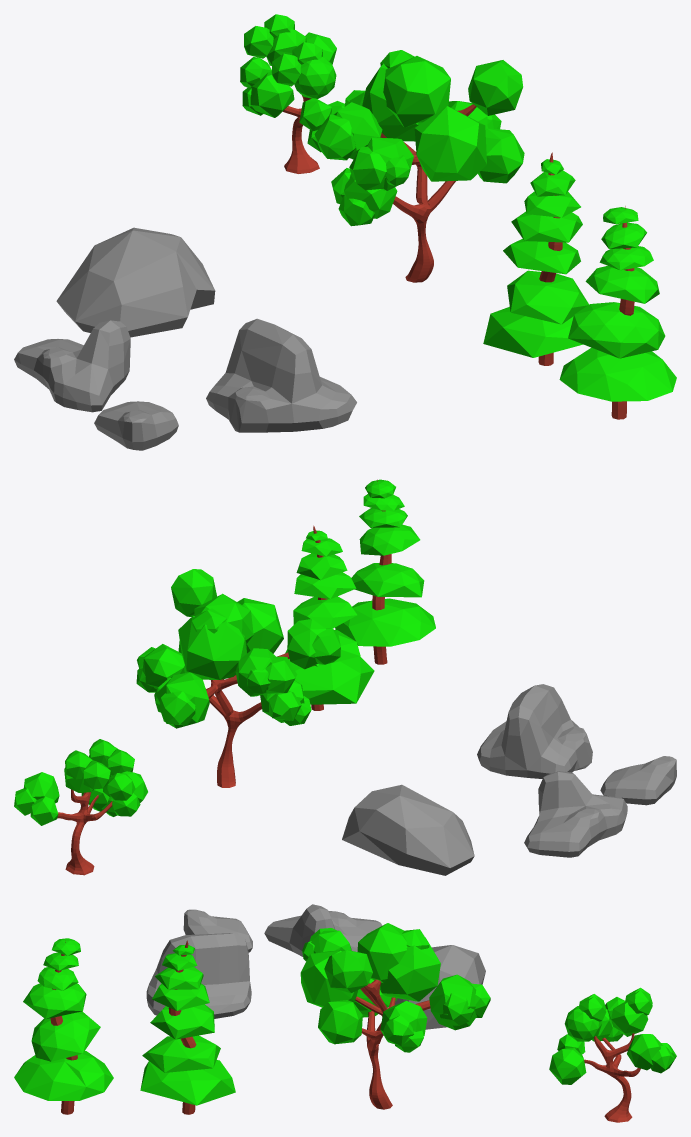
Rendered from Environment.fbx.
3 renders of one model, top to bottom at view 1: azimuth 30°, elevation 25°; view 2: azimuth 150°, elevation 25°; view 3: azimuth 270°, elevation 25°, orthographic. The views are drawn at different scales.
Parts seen in each view (by area): view 1: Cube.010, Cube.009, Cube.008, Icosphere.043, Icosphere.027, Icosphere.044, Icosphere.022, Icosphere.015, Icosphere.016, Cube.007, Cube.006, Icosphere.030 (+23 smaller); view 2: Cube.010, Cube.009, Cube.008, Icosphere.043, Icosphere.039, Icosphere.015, Cube.007, Icosphere.044, Cube.006, Icosphere.030, Icosphere.027, Cube (+18 smaller); view 3: Cube.009, Icosphere.043, Cube.008, Icosphere.015, Icosphere.044, Icosphere.039, Icosphere.016, Cube.006, Cube.010, Icosphere.022, Icosphere.027, Icosphere.026 (+28 smaller).
Part boxes in pixels (<box>): Cube.010: <box>56,227,215,337</box>; Cube.009: <box>206,318,356,432</box>; Cube.008: <box>14,320,130,412</box>; Icosphere.043: <box>559,347,676,401</box>; Icosphere.027: <box>414,106,486,181</box>; Icosphere.044: <box>568,302,665,358</box>; Icosphere.022: <box>383,56,450,127</box>; Icosphere.015: <box>483,306,583,357</box>; Icosphere.016: <box>507,270,588,324</box>; Cube.007: <box>94,401,178,450</box>; Cube.006: <box>380,104,476,282</box>; Icosphere.030: <box>468,60,523,115</box>; Cube.010: <box>342,784,474,875</box>; Cube.009: <box>477,684,592,778</box>; Cube.008: <box>524,771,627,857</box>; Icosphere.043: <box>335,598,435,646</box>; Icosphere.039: <box>178,616,246,679</box>; Icosphere.015: <box>288,656,374,704</box>; Cube.007: <box>600,756,676,805</box>; Icosphere.044: <box>351,563,424,597</box>; Cube.006: <box>205,652,289,787</box>; Icosphere.030: <box>171,569,216,616</box>; Icosphere.027: <box>237,598,283,653</box>; Cube: <box>57,789,112,875</box>; Cube.009: <box>146,933,251,1018</box>; Icosphere.043: <box>14,1051,113,1100</box>; Cube.008: <box>264,904,382,956</box>; Icosphere.015: <box>140,1060,235,1105</box>; Icosphere.044: <box>31,1011,100,1061</box>; Icosphere.039: <box>380,937,440,1001</box>; Icosphere.016: <box>142,1035,220,1072</box>; Cube.006: <box>355,979,430,1109</box>; Cube.010: <box>395,945,485,1029</box>; Icosphere.022: <box>357,923,407,983</box>; Icosphere.027: <box>300,950,357,1007</box>; Icosphere.026: <box>318,1000,362,1044</box>.
Size of the model in its own units: 3408 by 1423 by 4702.
